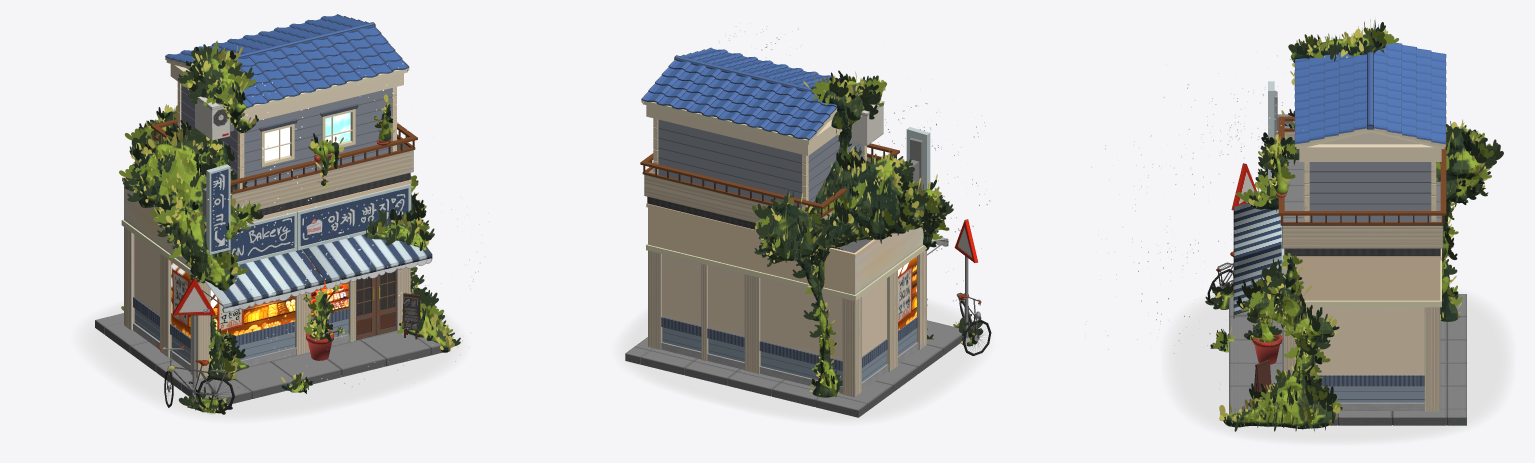
The model's file is korean_bakery.glb.
The picture shows the model from 3 angles, left to right: view 1: azimuth 30°, elevation 25°; view 2: azimuth 150°, elevation 25°; view 3: azimuth 270°, elevation 25°; orthographic projection. The views are drawn at different scales.
Parts seen in each view (by area): view 1: Object_22, Object_4, Object_20, Object_48, Object_66, Object_14, Object_12, Object_30, Object_60, Object_28, Object_40, Object_46 (+15 smaller); view 2: Object_12, Object_22, Object_48, Object_4, Object_20, Object_28, Object_42, Object_60, Object_66, Object_32, Object_40, Object_54 (+9 smaller); view 3: Object_4, Object_22, Object_48, Object_20, Object_12, Object_66, Object_60, Object_42, Object_40, Object_30, Object_28, Object_54 (+12 smaller).
Part boxes in pixels (x1=…): Object_22: x1=119, y1=41, x2=460, y2=414; Object_4: x1=73, y1=258, x2=469, y2=422; Object_20: x1=134, y1=54, x2=449, y2=413; Object_48: x1=165, y1=14, x2=409, y2=107; Object_66: x1=95, y1=313, x2=442, y2=404; Object_14: x1=211, y1=112, x2=419, y2=330; Object_12: x1=133, y1=235, x2=349, y2=371; Object_30: x1=201, y1=234, x2=432, y2=308; Object_60: x1=181, y1=84, x2=391, y2=190; Object_28: x1=121, y1=219, x2=410, y2=378; Object_40: x1=155, y1=139, x2=413, y2=209; Object_46: x1=202, y1=164, x2=411, y2=264; Object_12: x1=661, y1=254, x2=918, y2=393; Object_22: x1=752, y1=70, x2=983, y2=397; Object_48: x1=641, y1=47, x2=859, y2=139; Object_4: x1=614, y1=240, x2=993, y2=425; Object_20: x1=764, y1=81, x2=973, y2=397; Object_28: x1=646, y1=243, x2=926, y2=397; Object_42: x1=646, y1=203, x2=923, y2=294; Object_60: x1=658, y1=119, x2=863, y2=208; Object_66: x1=625, y1=320, x2=962, y2=417; Object_32: x1=662, y1=327, x2=916, y2=381; Object_40: x1=644, y1=174, x2=831, y2=222; Object_54: x1=646, y1=105, x2=842, y2=155; Object_4: x1=1162, y1=287, x2=1514, y2=445; Object_22: x1=1205, y1=19, x2=1503, y2=431; Object_48: x1=1294, y1=42, x2=1446, y2=144; Object_20: x1=1218, y1=34, x2=1484, y2=429; Object_12: x1=1306, y1=307, x2=1424, y2=410; Object_66: x1=1229, y1=159, x2=1466, y2=425; Object_60: x1=1309, y1=162, x2=1431, y2=221; Object_42: x1=1283, y1=248, x2=1441, y2=300; Object_40: x1=1282, y1=225, x2=1443, y2=248; Object_30: x1=1233, y1=202, x2=1281, y2=318; Object_28: x1=1283, y1=249, x2=1441, y2=411; Object_54: x1=1299, y1=144, x2=1441, y2=161.
Size of the model in its own units: 1.31 by 1.12 by 1.37.
5 materials, 5 textured.
